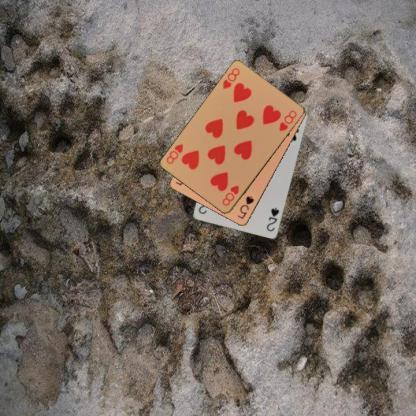2s: (264, 205, 280, 233)
5s: (235, 194, 256, 221)
8h: (220, 65, 241, 90), (220, 182, 240, 208)
